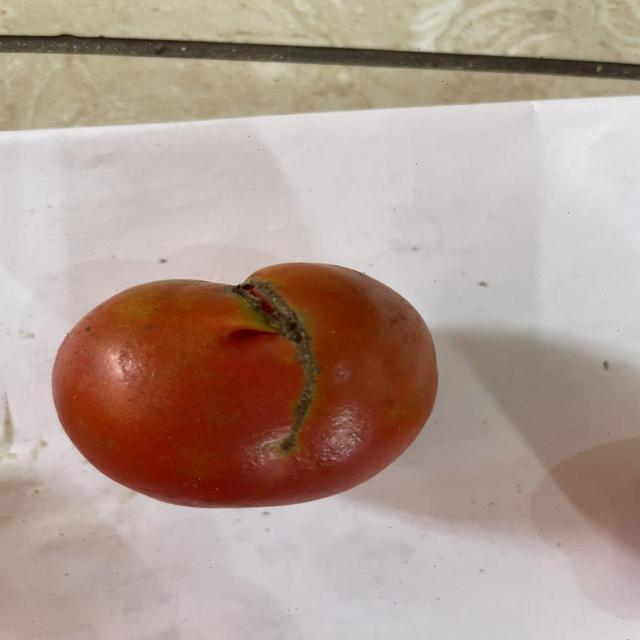Cracking Fruit: (91, 181, 307, 415)
